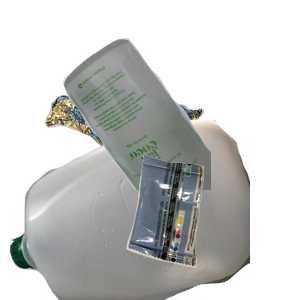glass: (60, 36, 300, 216)
metal: (42, 72, 239, 229)
plastic: (10, 120, 250, 300)
trash: (124, 152, 300, 300)
